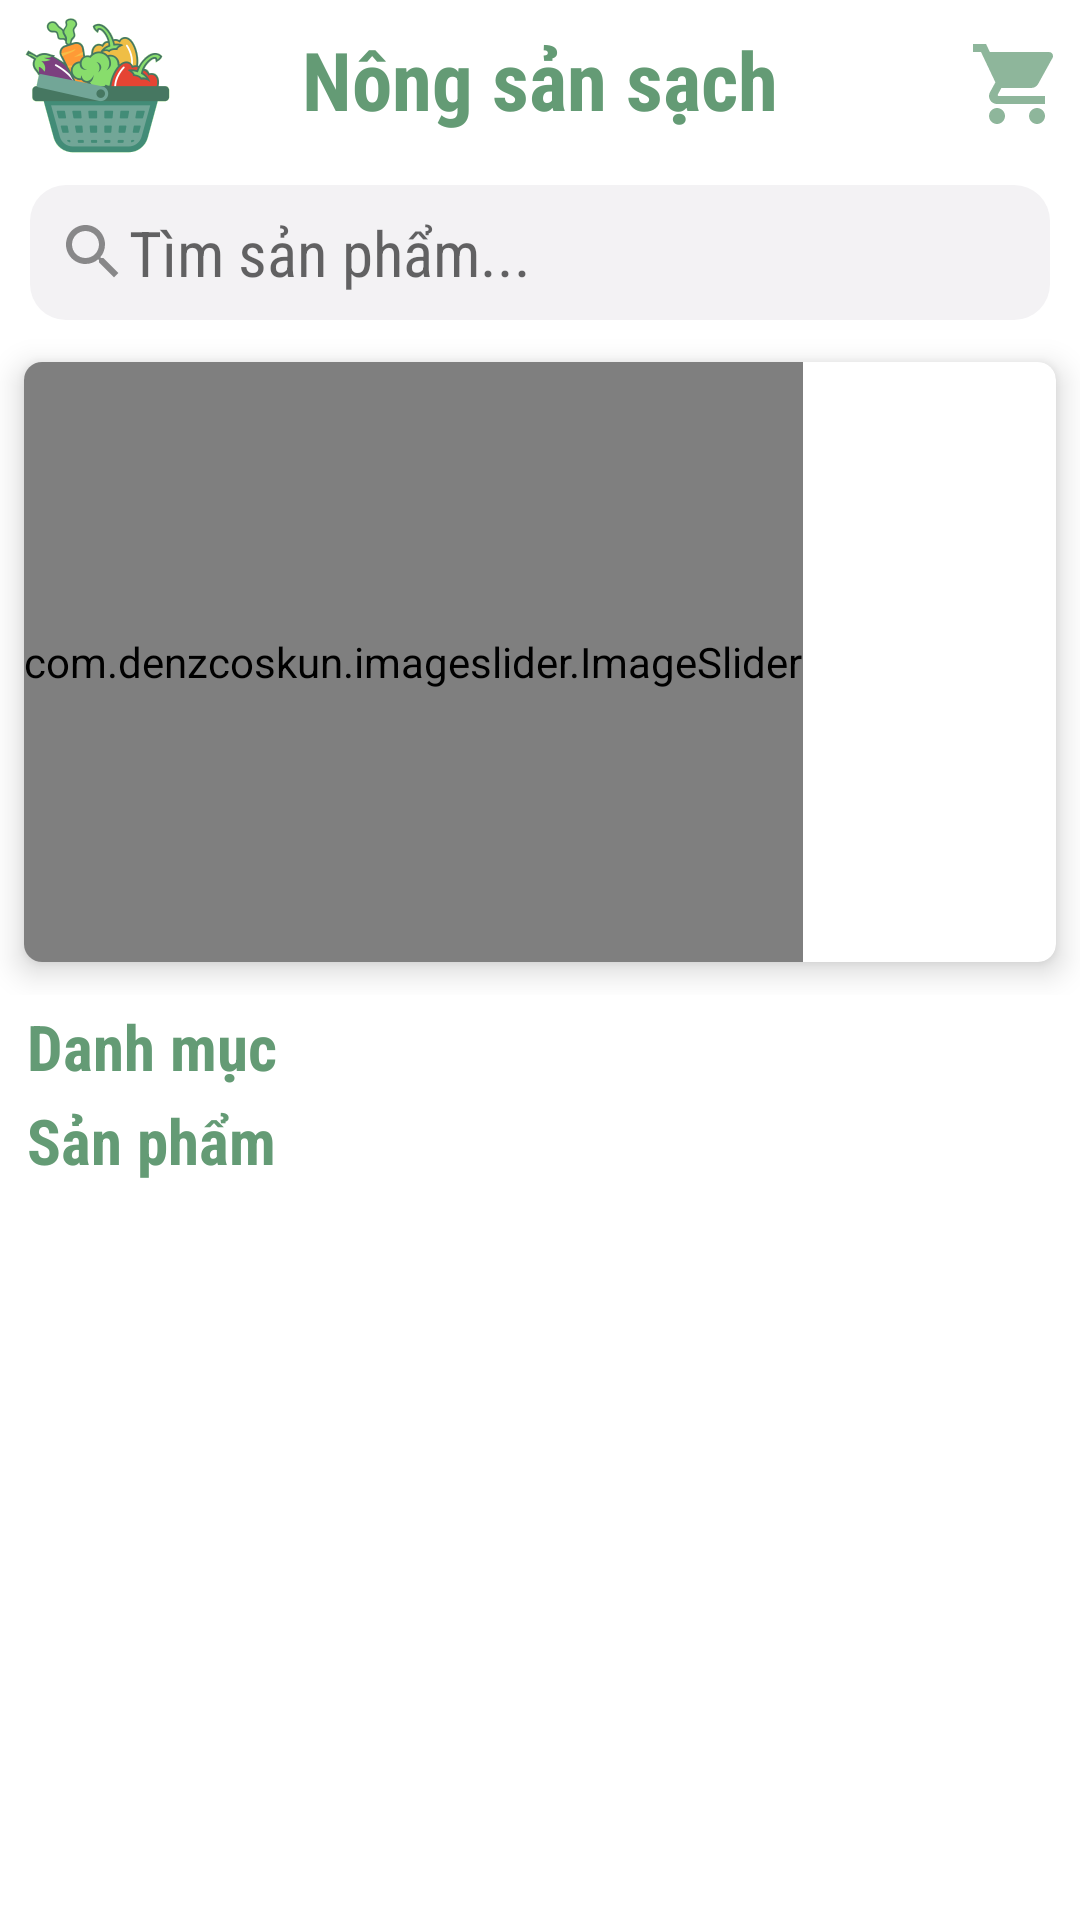

Icons on this 1080 × 1920 Android screen, each with its box as (left=x1, top=y1, right=x2, bottom=y2):
cart home: (left=973, top=44, right=1053, bottom=124)
